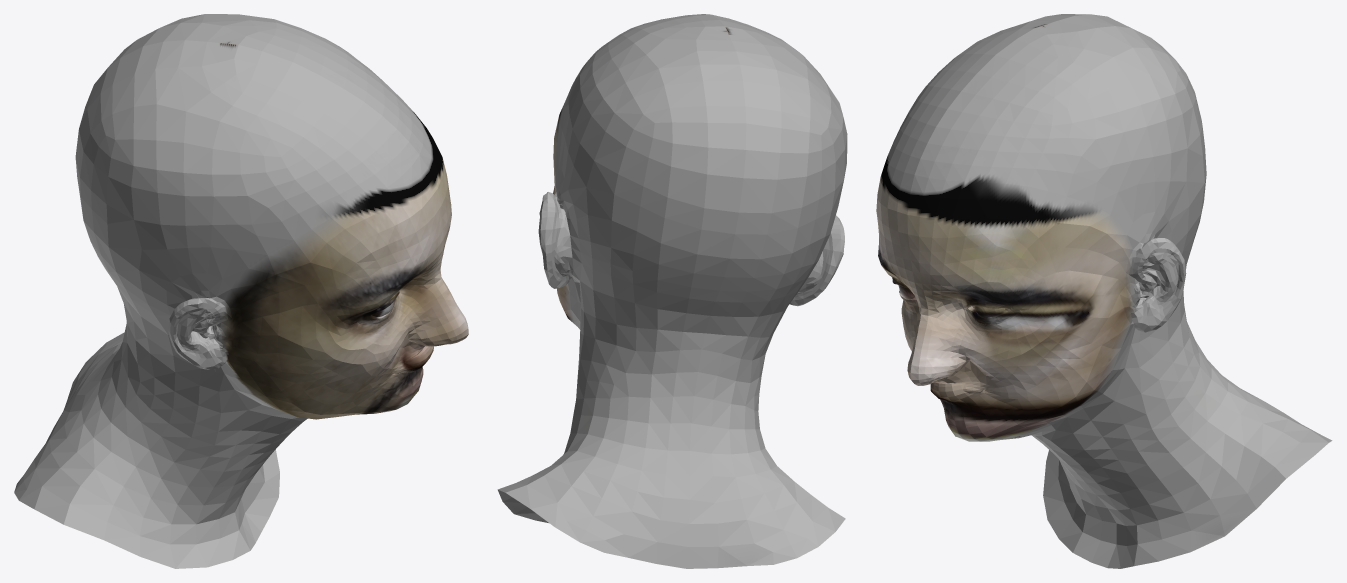
The model's file is ezgif-frame-053.obj.
3 views of the same model, side by side, from view 1: azimuth 30°, elevation 25°; view 2: azimuth 150°, elevation 25°; view 3: azimuth 270°, elevation 25° (orthographic). The views are drawn at different scales.
Size of the model in its own units: 0.2129 by 0.3172 by 0.2559.
1 material, 1 textured.
